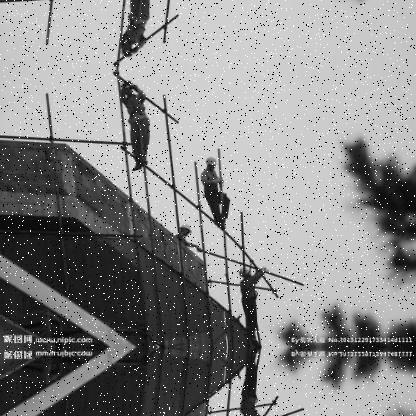Helmet: (176, 218, 200, 244), (200, 154, 221, 178), (234, 264, 256, 284)
